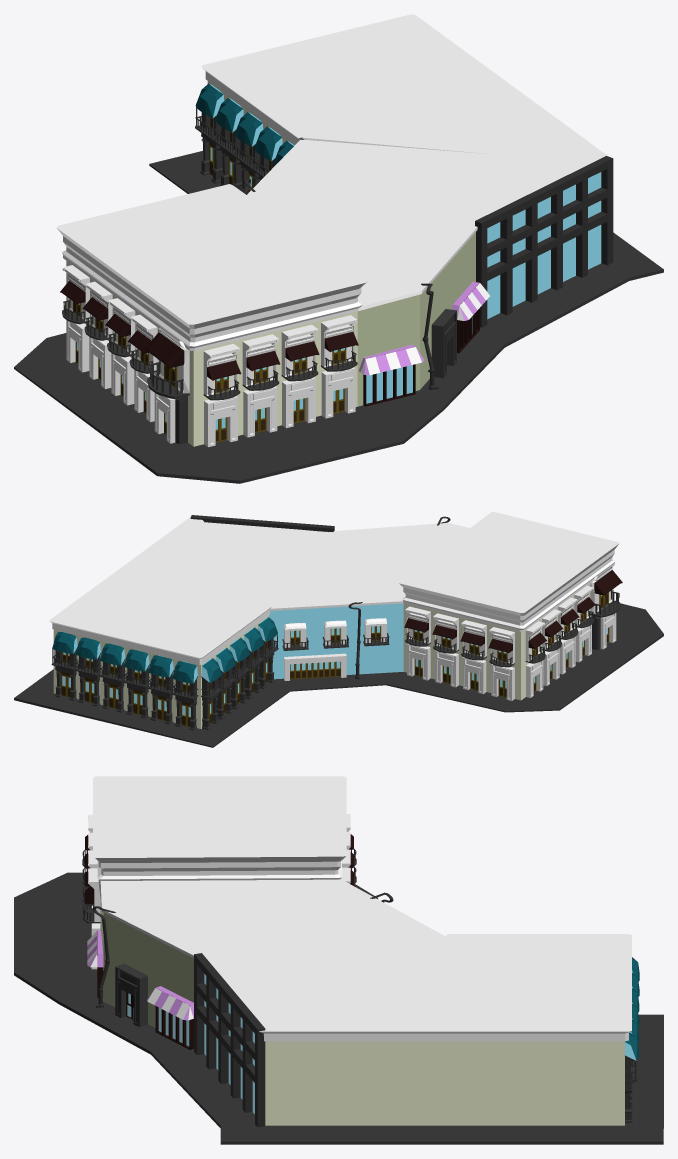
File: building2.glb
3 views of the same model, one above another, from view 1: azimuth 30°, elevation 25°; view 2: azimuth 150°, elevation 25°; view 3: azimuth 270°, elevation 25° (orthographic). The views are drawn at different scales.
Parts seen in each view (by area): view 1: EDIFICIO, barandal.004, Cube.009, barandal.046, barandal.001, barandal.002, Cube, barandal.022, Cube.001, barandal.013, barandal.005, barandal.010 (+2 smaller); view 2: EDIFICIO, barandal.003, barandal.006, barandal.046, barandal.001, barandal.002, Cube.009, barandal.133, barandal.148, barandal.005, barandal.057, barandal.053 (+5 smaller); view 3: EDIFICIO, Cube.009, Cube.001, barandal.022, barandal.003, barandal.004, Cube, barandal.006.
Boxes of the visible parts, x1,y1,x2,y2 form: EDIFICIO: (14, 14, 663, 483); barandal.004: (203, 315, 358, 447); Cube.009: (475, 156, 613, 327); barandal.046: (195, 83, 294, 194); barandal.001: (60, 265, 157, 373); barandal.002: (144, 326, 189, 444); Cube: (359, 344, 424, 406); barandal.022: (431, 309, 456, 378); Cube.001: (452, 281, 489, 353); barandal.013: (111, 353, 134, 405); barandal.005: (66, 320, 89, 372); barandal.010: (89, 337, 111, 389); EDIFICIO: (14, 512, 663, 747); barandal.003: (51, 632, 198, 730); barandal.006: (404, 606, 514, 700); barandal.046: (201, 617, 278, 729); barandal.001: (525, 586, 595, 663); barandal.002: (590, 566, 622, 649); Cube.009: (190, 515, 334, 531); barandal.133: (290, 661, 340, 679); barandal.148: (284, 653, 346, 680); barandal.005: (526, 660, 543, 697); barandal.057: (363, 618, 389, 646); barandal.053: (282, 623, 308, 650); EDIFICIO: (14, 776, 663, 1144); Cube.009: (194, 953, 265, 1127); Cube.001: (147, 986, 193, 1049); barandal.022: (115, 963, 147, 1027); barandal.003: (625, 957, 639, 1122); barandal.004: (82, 814, 100, 969); Cube: (87, 930, 103, 997); barandal.006: (341, 814, 356, 886).
Bounding box in the file's own units: 169 × 35.5 × 173.
